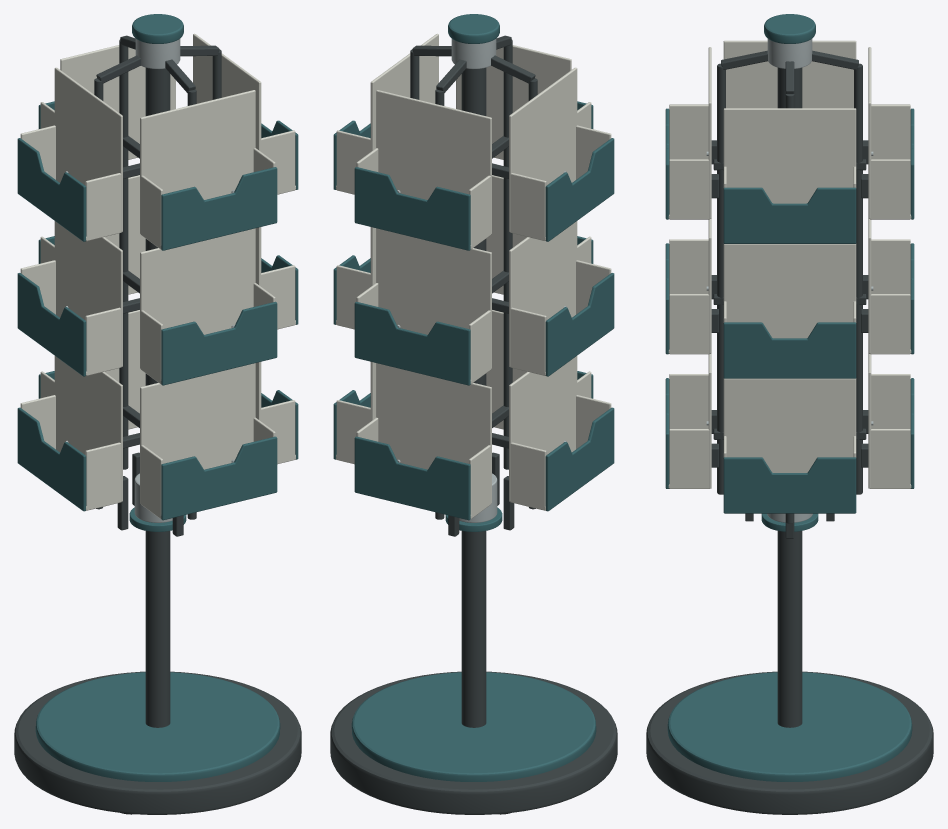
The model's file is city-rotating-brochure-carousel.glb.
3 renders of one model, left to right at view 1: azimuth 30°, elevation 25°; view 2: azimuth 150°, elevation 25°; view 3: azimuth 270°, elevation 25°, orthographic.
Visible parts, largest first — view 1: Assembly | Warm ivory enamel, Assembly | Deep petrol powder coat, Assembly | Charcoal structural metal, Assembly | Satin stainless fittings; view 2: Assembly | Warm ivory enamel, Assembly | Deep petrol powder coat, Assembly | Charcoal structural metal, Assembly | Satin stainless fittings; view 3: Assembly | Warm ivory enamel, Assembly | Deep petrol powder coat, Assembly | Charcoal structural metal, Assembly | Satin stainless fittings.
Boxes of the visible parts, x1,y1,x2,y2 form: Assembly | Warm ivory enamel: (20,33,295,518); Assembly | Deep petrol powder coat: (17,14,298,781); Assembly | Charcoal structural metal: (14,35,301,814); Assembly | Satin stainless fittings: (65,39,234,522); Assembly | Warm ivory enamel: (336,33,611,518); Assembly | Deep petrol powder coat: (333,14,614,781); Assembly | Charcoal structural metal: (330,35,617,814); Assembly | Satin stainless fittings: (397,39,566,522); Assembly | Warm ivory enamel: (668,40,911,488); Assembly | Deep petrol powder coat: (665,14,914,781); Assembly | Charcoal structural metal: (646,50,933,814); Assembly | Satin stainless fittings: (706,39,873,522).
Size of the model in its own units: 0.576 by 1.64 by 0.576.
